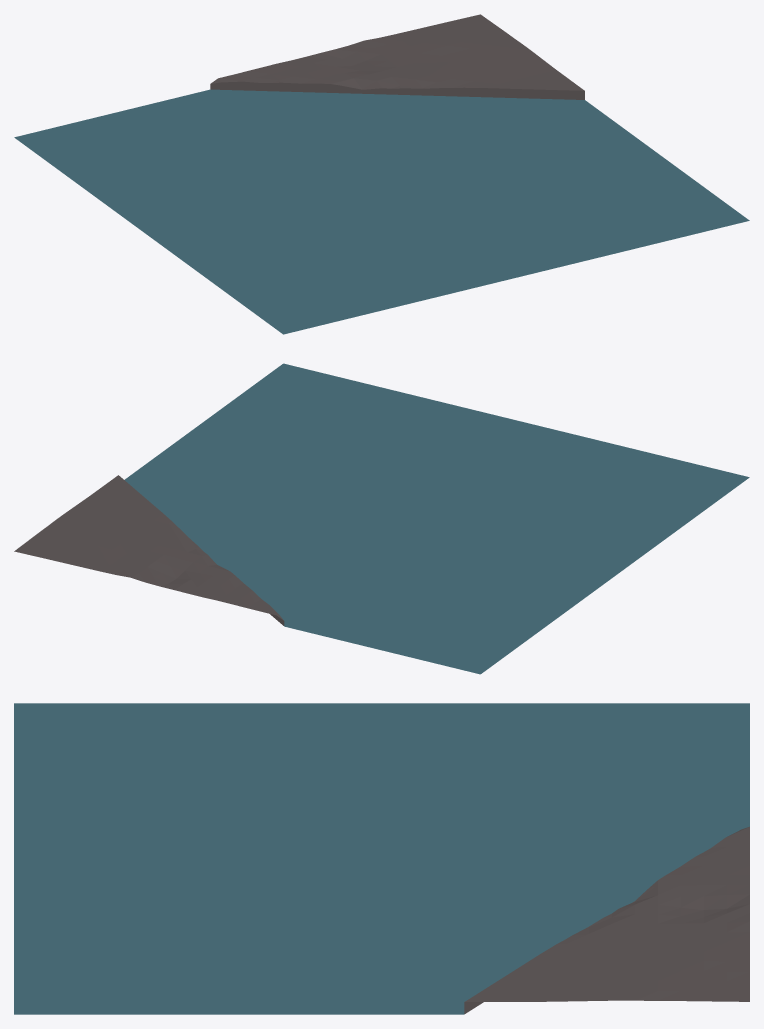
The picture shows the model from 3 angles, top to bottom: view 1: azimuth 30°, elevation 25°; view 2: azimuth 150°, elevation 25°; view 3: azimuth 270°, elevation 25°; orthographic projection. The views are drawn at different scales.
Parts seen in each view (by area): view 1: c_p03_p03; view 2: c_p03_p03; view 3: c_p03_p03.
Boxes of the visible parts, x1,y1,x2,y2 form: c_p03_p03: [14, 14, 749, 334]; c_p03_p03: [14, 363, 749, 674]; c_p03_p03: [14, 703, 749, 1014].
Size of the model in its own units: 128 by 3 by 128.
